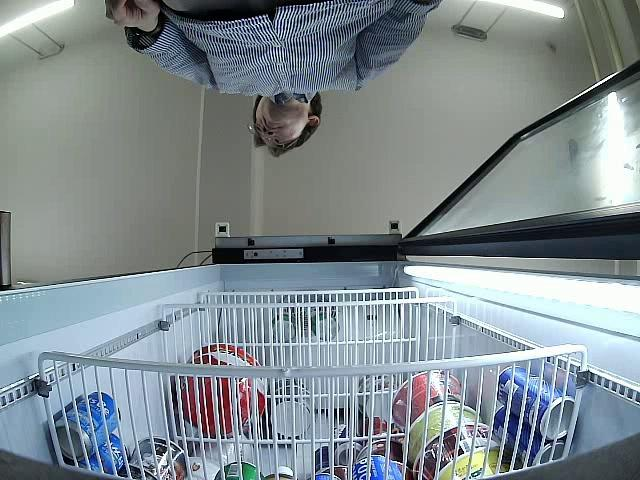00_hand: (104, 0, 161, 33)
